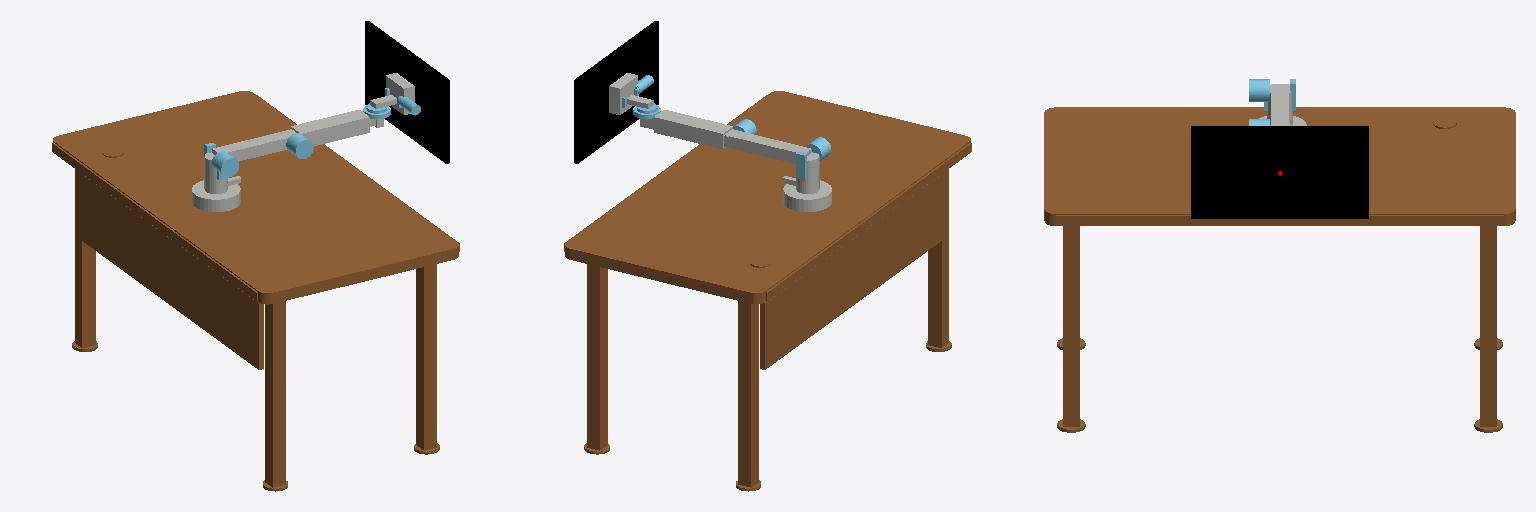
The robot description file, URDF, robot "face_screen_support_arm":
<?xml version="1.0"?>
<robot name="face_screen_support_arm">
  <material name="neutral_gray"><color rgba="0.78 0.78 0.76 1"/></material>
  <material name="joint_sky_blue"><color rgba="0.529 0.808 0.922 1"/></material>
  <material name="screen_black"><color rgba="0 0 0 1"/></material>
  <material name="center_red"><color rgba="1 0 0 1"/></material>
  <material name="office_desk_wood"><color rgba="0.62 0.42 0.24 1"/></material>

  <link name="desk_link">
    <visual name="office_desk">
      <geometry><mesh filename="../meshes/office_desk.stl" scale="0.001 0.001 0.001"/></geometry>
      <material name="office_desk_wood"/>
    </visual>
    <collision>
      <geometry><mesh filename="../meshes/office_desk.stl" scale="0.001 0.001 0.001"/></geometry>
    </collision>
    <inertial>
      <origin xyz="0 0 0.37" rpy="0 0 0"/>
      <mass value="25.0"/>
      <inertia ixx="4.3" ixy="0" ixz="0" iyy="1.4" iyz="0" izz="5.4"/>
    </inertial>
  </link>

  <joint name="desk_to_arm_base" type="fixed">
    <origin xyz="-0.150 0.000 0.740" rpy="0 0 0"/>
    <parent link="desk_link"/><child link="base_link"/>
  </joint>

  <link name="base_link">
    <visual name="base_disc"><geometry><mesh filename="../visuals/base_disc.stl" scale="0.001 0.001 0.001"/></geometry><material name="neutral_gray"/></visual>
    <visual name="mast"><geometry><mesh filename="../visuals/mast.stl" scale="0.001 0.001 0.001"/></geometry><material name="neutral_gray"/></visual>
    <visual name="base_front_ref"><geometry><mesh filename="../visuals/base_front_ref.stl" scale="0.001 0.001 0.001"/></geometry><material name="neutral_gray"/></visual>
    <collision><geometry><mesh filename="../meshes/base_link.stl" scale="0.001 0.001 0.001"/></geometry></collision>
    <inertial><origin xyz="0 0 0.05"/><mass value="2.0"/><inertia ixx="0.02" ixy="0" ixz="0" iyy="0.02" iyz="0" izz="0.02"/></inertial>
  </link>

  <joint name="joint1_base_yaw" type="revolute">
    <origin xyz="0 0 0.16" rpy="0 0 0"/>
    <parent link="base_link"/><child link="yaw_link"/>
    <axis xyz="0 0 1"/>
    <limit lower="-2.61799" upper="2.61799" effort="30" velocity="1.5"/>
  </joint>
  <link name="yaw_link">
    <visual name="yaw_bearing"><geometry><mesh filename="../visuals/yaw_bearing.stl" scale="0.001 0.001 0.001"/></geometry><material name="joint_sky_blue"/></visual>
    <visual name="shoulder_yoke_l"><geometry><mesh filename="../visuals/shoulder_yoke_l.stl" scale="0.001 0.001 0.001"/></geometry><material name="joint_sky_blue"/></visual>
    <visual name="shoulder_yoke_r"><geometry><mesh filename="../visuals/shoulder_yoke_r.stl" scale="0.001 0.001 0.001"/></geometry><material name="joint_sky_blue"/></visual>
    <visual name="joint2_axis_hint"><geometry><mesh filename="../visuals/joint2_axis_hint.stl" scale="0.001 0.001 0.001"/></geometry><material name="joint_sky_blue"/></visual>
    <collision><geometry><mesh filename="../meshes/yaw_link.stl" scale="0.001 0.001 0.001"/></geometry></collision>
    <inertial><origin xyz="0 0 0"/><mass value="0.7"/><inertia ixx="0.005" ixy="0" ixz="0" iyy="0.005" iyz="0" izz="0.005"/></inertial>
  </link>

  <joint name="joint2_shoulder_pitch" type="revolute">
    <origin xyz="0 0 0" rpy="0 0 0"/>
    <parent link="yaw_link"/><child link="upper_arm"/>
    <axis xyz="0 1 0"/>
    <limit lower="-3.49066" upper="0.349066" effort="35" velocity="1.2"/>
  </joint>
  <link name="upper_arm">
    <visual name="upper_bar"><geometry><mesh filename="../visuals/upper_bar.stl" scale="0.001 0.001 0.001"/></geometry><material name="neutral_gray"/></visual>
    <visual name="upper_shoulder_hub"><geometry><mesh filename="../visuals/upper_shoulder_hub.stl" scale="0.001 0.001 0.001"/></geometry><material name="joint_sky_blue"/></visual>
    <visual name="upper_elbow_hub"><geometry><mesh filename="../visuals/upper_elbow_hub.stl" scale="0.001 0.001 0.001"/></geometry><material name="joint_sky_blue"/></visual>
    <collision><geometry><mesh filename="../meshes/upper_arm.stl" scale="0.001 0.001 0.001"/></geometry></collision>
    <inertial><origin xyz="0.14 0 0"/><mass value="0.8"/><inertia ixx="0.006" ixy="0" ixz="0" iyy="0.02" iyz="0" izz="0.02"/></inertial>
  </link>

  <joint name="joint3_elbow_pitch" type="revolute">
    <origin xyz="0.28 0 0" rpy="0 0 0"/>
    <parent link="upper_arm"/><child link="forearm"/>
    <axis xyz="0 1 0"/>
    <limit lower="-2.96706" upper="2.96706" effort="30" velocity="1.2"/>
  </joint>
  <link name="forearm">
    <visual name="forearm_bar"><geometry><mesh filename="../visuals/forearm_bar.stl" scale="0.001 0.001 0.001"/></geometry><material name="neutral_gray"/></visual>
    <visual name="forearm_elbow_hub"><geometry><mesh filename="../visuals/forearm_elbow_hub.stl" scale="0.001 0.001 0.001"/></geometry><material name="joint_sky_blue"/></visual>
    <visual name="slider_outer_tube"><geometry><mesh filename="../visuals/slider_outer_tube.stl" scale="0.001 0.001 0.001"/></geometry><material name="neutral_gray"/></visual>
    <collision><geometry><mesh filename="../meshes/forearm.stl" scale="0.001 0.001 0.001"/></geometry></collision>
    <inertial><origin xyz="0.12 0 0"/><mass value="0.7"/><inertia ixx="0.004" ixy="0" ixz="0" iyy="0.015" iyz="0" izz="0.015"/></inertial>
  </link>

  <joint name="joint4_telescopic" type="prismatic">
    <origin xyz="0.24 0 0" rpy="0 0 0"/>
    <parent link="forearm"/><child link="telescopic_slider"/>
    <axis xyz="1 0 0"/>
    <limit lower="0" upper="0.28" effort="120" velocity="0.25"/>
  </joint>
  <link name="telescopic_slider">
    <visual name="inner_tube"><geometry><mesh filename="../visuals/inner_tube.stl" scale="0.001 0.001 0.001"/></geometry><material name="neutral_gray"/></visual>
    <visual name="linear_rail_hint"><geometry><mesh filename="../visuals/linear_rail_hint.stl" scale="0.001 0.001 0.001"/></geometry><material name="neutral_gray"/></visual>
    <visual name="telescopic_end_cap"><geometry><mesh filename="../visuals/telescopic_end_cap.stl" scale="0.001 0.001 0.001"/></geometry><material name="neutral_gray"/></visual>
    <visual name="pan_mount_boss"><geometry><mesh filename="../visuals/pan_mount_boss.stl" scale="0.001 0.001 0.001"/></geometry><material name="joint_sky_blue"/></visual>
    <collision><geometry><mesh filename="../meshes/telescopic_slider.stl" scale="0.001 0.001 0.001"/></geometry></collision>
    <inertial><origin xyz="0 0 0.04"/><mass value="0.55"/><inertia ixx="0.003" ixy="0" ixz="0" iyy="0.012" iyz="0" izz="0.012"/></inertial>
  </link>

  <joint name="joint5_screen_pan" type="revolute">
    <origin xyz="0.085 0 0.024" rpy="0 0 0"/>
    <parent link="telescopic_slider"/><child link="screen_pan_link"/>
    <axis xyz="0 0 1"/>
    <limit lower="-1.74533" upper="1.74533" effort="8" velocity="2.0"/>
  </joint>
  <link name="screen_pan_link">
    <visual name="pan_base_disc"><geometry><mesh filename="../visuals/pan_base_disc.stl" scale="0.001 0.001 0.001"/></geometry><material name="joint_sky_blue"/></visual>
    <visual name="pan_rotor_cap"><geometry><mesh filename="../visuals/pan_rotor_cap.stl" scale="0.001 0.001 0.001"/></geometry><material name="joint_sky_blue"/></visual>
    <visual name="low_pitch_bridge"><geometry><mesh filename="../visuals/low_pitch_bridge.stl" scale="0.001 0.001 0.001"/></geometry><material name="neutral_gray"/></visual>
    <visual name="pitch_side_plate_l"><geometry><mesh filename="../visuals/pitch_side_plate_l.stl" scale="0.001 0.001 0.001"/></geometry><material name="joint_sky_blue"/></visual>
    <visual name="pitch_side_plate_r"><geometry><mesh filename="../visuals/pitch_side_plate_r.stl" scale="0.001 0.001 0.001"/></geometry><material name="joint_sky_blue"/></visual>
    <visual name="pitch_axis_hint"><geometry><mesh filename="../visuals/pitch_axis_hint.stl" scale="0.001 0.001 0.001"/></geometry><material name="joint_sky_blue"/></visual>
    <collision><geometry><mesh filename="../meshes/screen_pan_link.stl" scale="0.001 0.001 0.001"/></geometry></collision>
    <inertial><origin xyz="0 0 0"/><mass value="0.25"/><inertia ixx="0.001" ixy="0" ixz="0" iyy="0.001" iyz="0" izz="0.001"/></inertial>
  </link>

  <joint name="joint6_screen_pitch" type="revolute">
    <origin xyz="0.07 0 0.042" rpy="0 0 0"/>
    <parent link="screen_pan_link"/><child link="screen_pitch_link"/>
    <axis xyz="0 1 0"/>
    <limit lower="-1.0472" upper="1.0472" effort="8" velocity="2.0"/>
  </joint>
  <link name="screen_pitch_link">
    <visual name="screen_pitch_hub"><geometry><mesh filename="../visuals/screen_pitch_hub.stl" scale="0.001 0.001 0.001"/></geometry><material name="joint_sky_blue"/></visual>
    <visual name="screen_plate"><geometry><mesh filename="../visuals/screen_plate.stl" scale="0.001 0.001 0.001"/></geometry><material name="screen_black"/></visual>
    <visual name="screen_lower_mount"><geometry><mesh filename="../visuals/screen_lower_mount.stl" scale="0.001 0.001 0.001"/></geometry><material name="neutral_gray"/></visual>
    <visual name="screen_back_mount"><geometry><mesh filename="../visuals/screen_back_mount.stl" scale="0.001 0.001 0.001"/></geometry><material name="neutral_gray"/></visual>
    <visual name="screen_center_marker"><geometry><mesh filename="../visuals/screen_center_marker.stl" scale="0.001 0.001 0.001"/></geometry><material name="center_red"/></visual>
    <inertial><origin xyz="0.04 0 0"/><mass value="0.65"/><inertia ixx="0.006" ixy="0" ixz="0" iyy="0.004" iyz="0" izz="0.008"/></inertial>
  </link>

  <joint name="screen_center_fixed" type="fixed">
    <origin xyz="0.052 0 0.0" rpy="0 0 0"/>
    <parent link="screen_pitch_link"/><child link="screen_center"/>
  </joint>
  <link name="screen_center"/>
</robot>

--- What the picture shows (computed from the rendered views, not written in the file) ---
3 views of the same robot in one strip: view 1: azimuth 30°, elevation 25°; view 2: azimuth 150°, elevation 25°; view 3: azimuth 270°, elevation 25° (orthographic).
Model face_screen_support_arm with 9 links and 8 joints (5 revolute, 1 prismatic, 2 fixed), rooted at desk_link, posed every joint at zero.
Links seen in each view (by area): view 1: desk_link, screen_pitch_link, upper_arm, base_link, forearm, screen_pan_link; view 2: desk_link, screen_pitch_link, upper_arm, forearm, base_link, screen_pan_link; view 3: desk_link, screen_pitch_link, upper_arm.
Boxes of the visible links, box(x1,y1,x2,y2) form: desk_link: box(52, 91, 459, 491); screen_pitch_link: box(365, 21, 449, 163); upper_arm: box(212, 130, 313, 177); base_link: box(192, 152, 240, 211); forearm: box(287, 110, 369, 145); screen_pan_link: box(363, 88, 401, 119); desk_link: box(564, 91, 971, 491); screen_pitch_link: box(574, 21, 658, 163); upper_arm: box(729, 119, 830, 163); forearm: box(654, 110, 736, 148); base_link: box(783, 153, 831, 211); screen_pan_link: box(622, 86, 660, 119); desk_link: box(1044, 107, 1515, 432); screen_pitch_link: box(1191, 126, 1368, 218); upper_arm: box(1249, 79, 1288, 125).
Size in the robot's own frame: 0.967 by 1.4 by 1.12 metres.
27 mesh visuals loaded from 29 distinct referenced files (27 binary STL); not drawn: 2 (reference not matched to a file when rendering).
